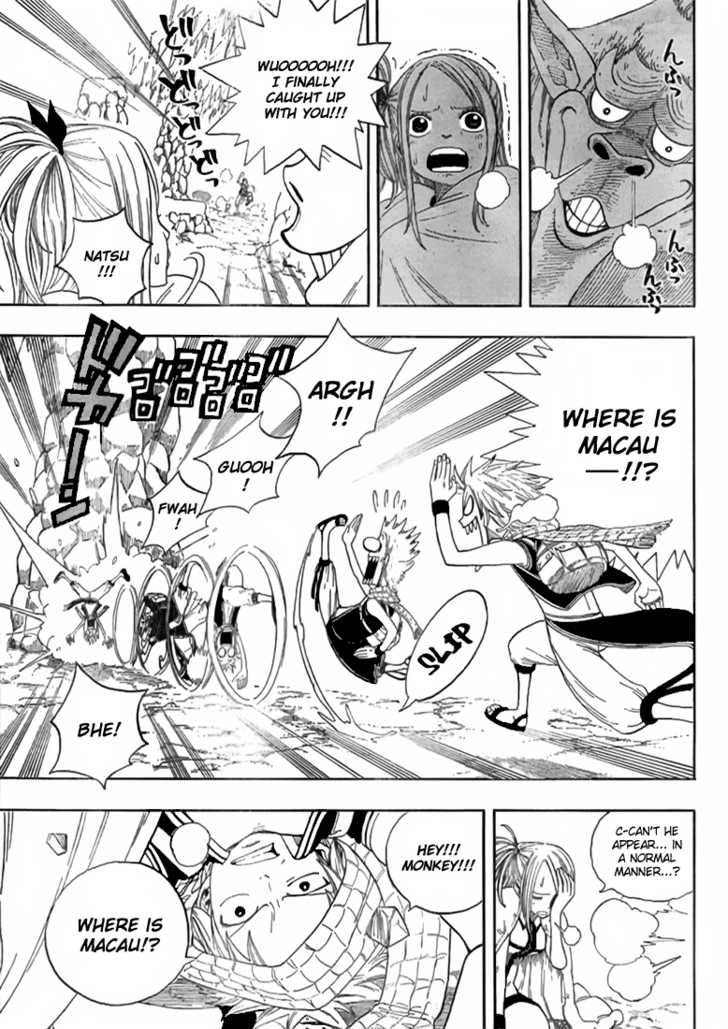bubble: (481, 337, 695, 580), (200, 0, 392, 174), (277, 318, 416, 477), (44, 862, 197, 1006), (51, 662, 149, 788), (400, 589, 487, 711), (194, 412, 296, 515), (386, 810, 485, 914), (55, 207, 152, 305), (590, 810, 694, 901), (143, 471, 215, 553)
